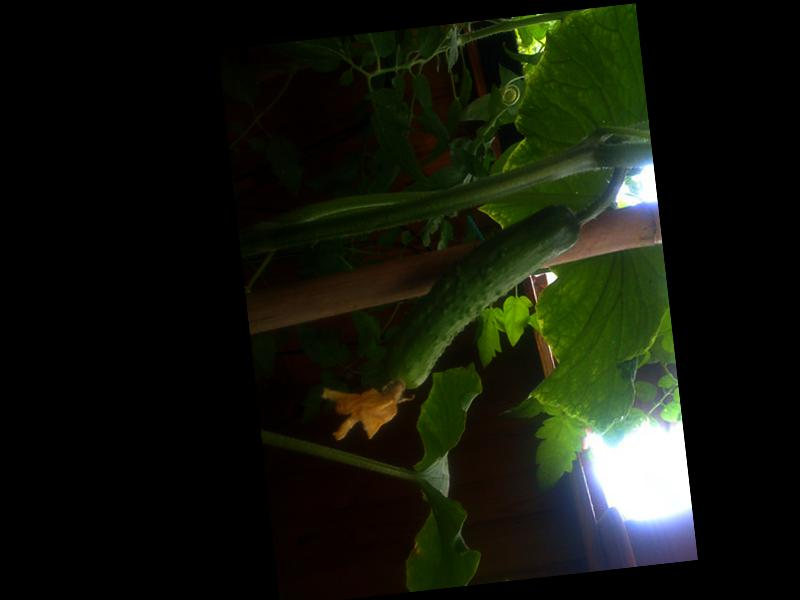Cucumber: (302, 204, 600, 446)
